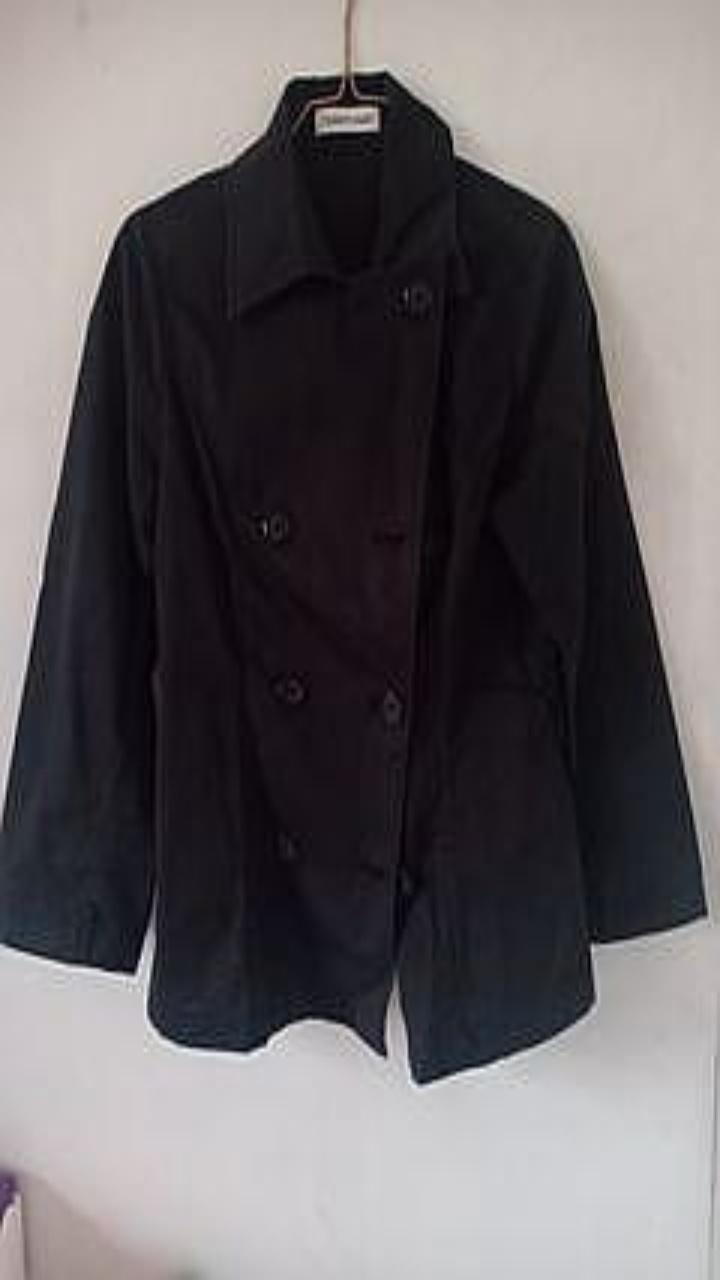Coat: (0, 70, 706, 1081)
